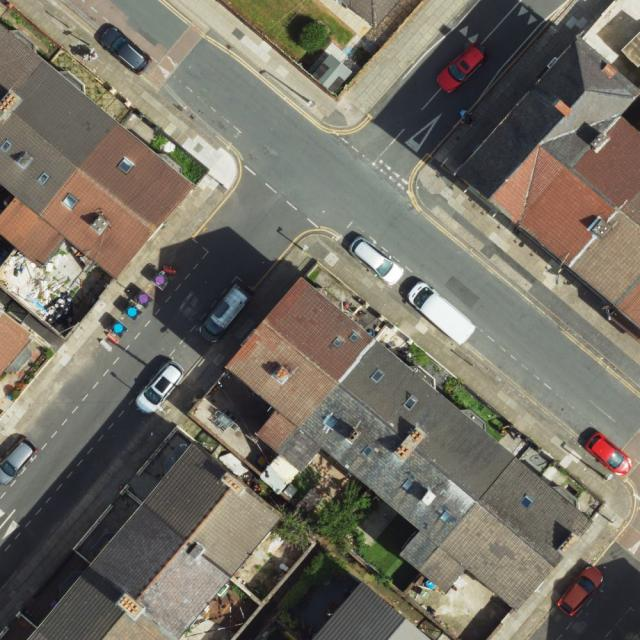roof: (226, 278, 594, 611), (456, 36, 640, 330), (27, 441, 280, 640), (0, 22, 193, 279), (311, 584, 433, 640), (0, 310, 34, 381)
skylight: (321, 412, 340, 431), (116, 156, 134, 175), (62, 193, 79, 210), (404, 395, 418, 411), (370, 369, 385, 383), (520, 496, 534, 510), (439, 509, 452, 523), (38, 173, 50, 187), (401, 479, 414, 491), (361, 446, 374, 457), (348, 332, 360, 343), (333, 336, 344, 347), (1, 142, 11, 153)
